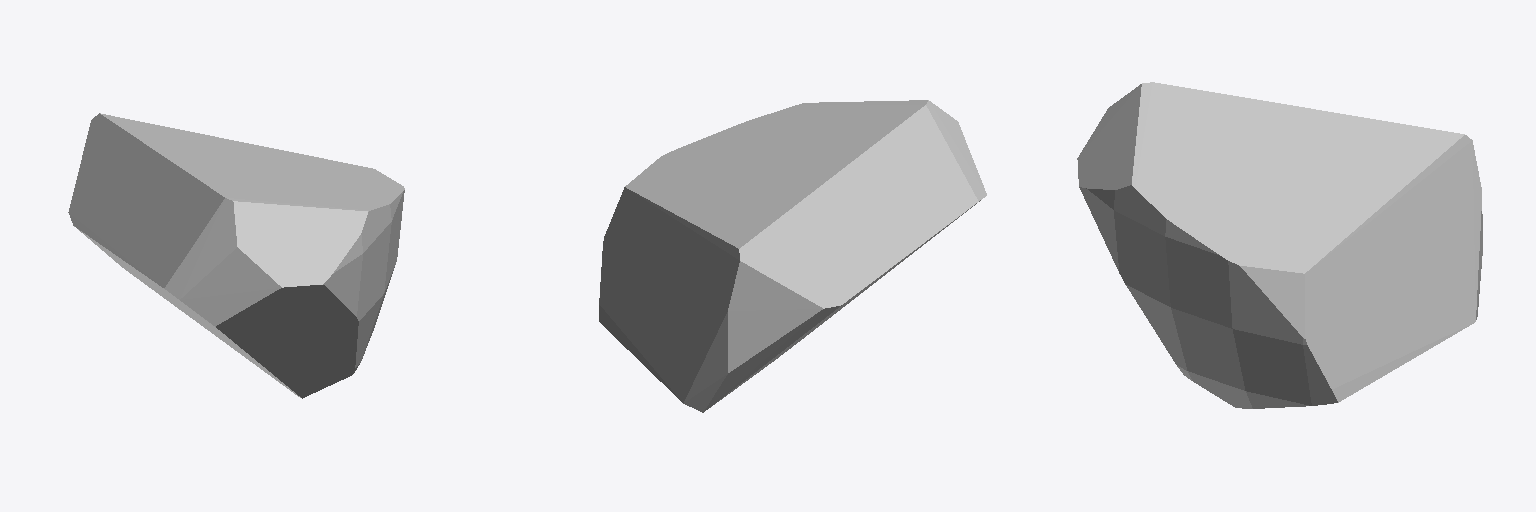
The model's file is Sphere_Cell_Fracture16.obj.
3 renders of one model, left to right at view 1: azimuth 30°, elevation 25°; view 2: azimuth 150°, elevation 25°; view 3: azimuth 270°, elevation 25°, orthographic.
Bounding box in the file's own units: 0.8421 × 0.6798 × 0.9766.